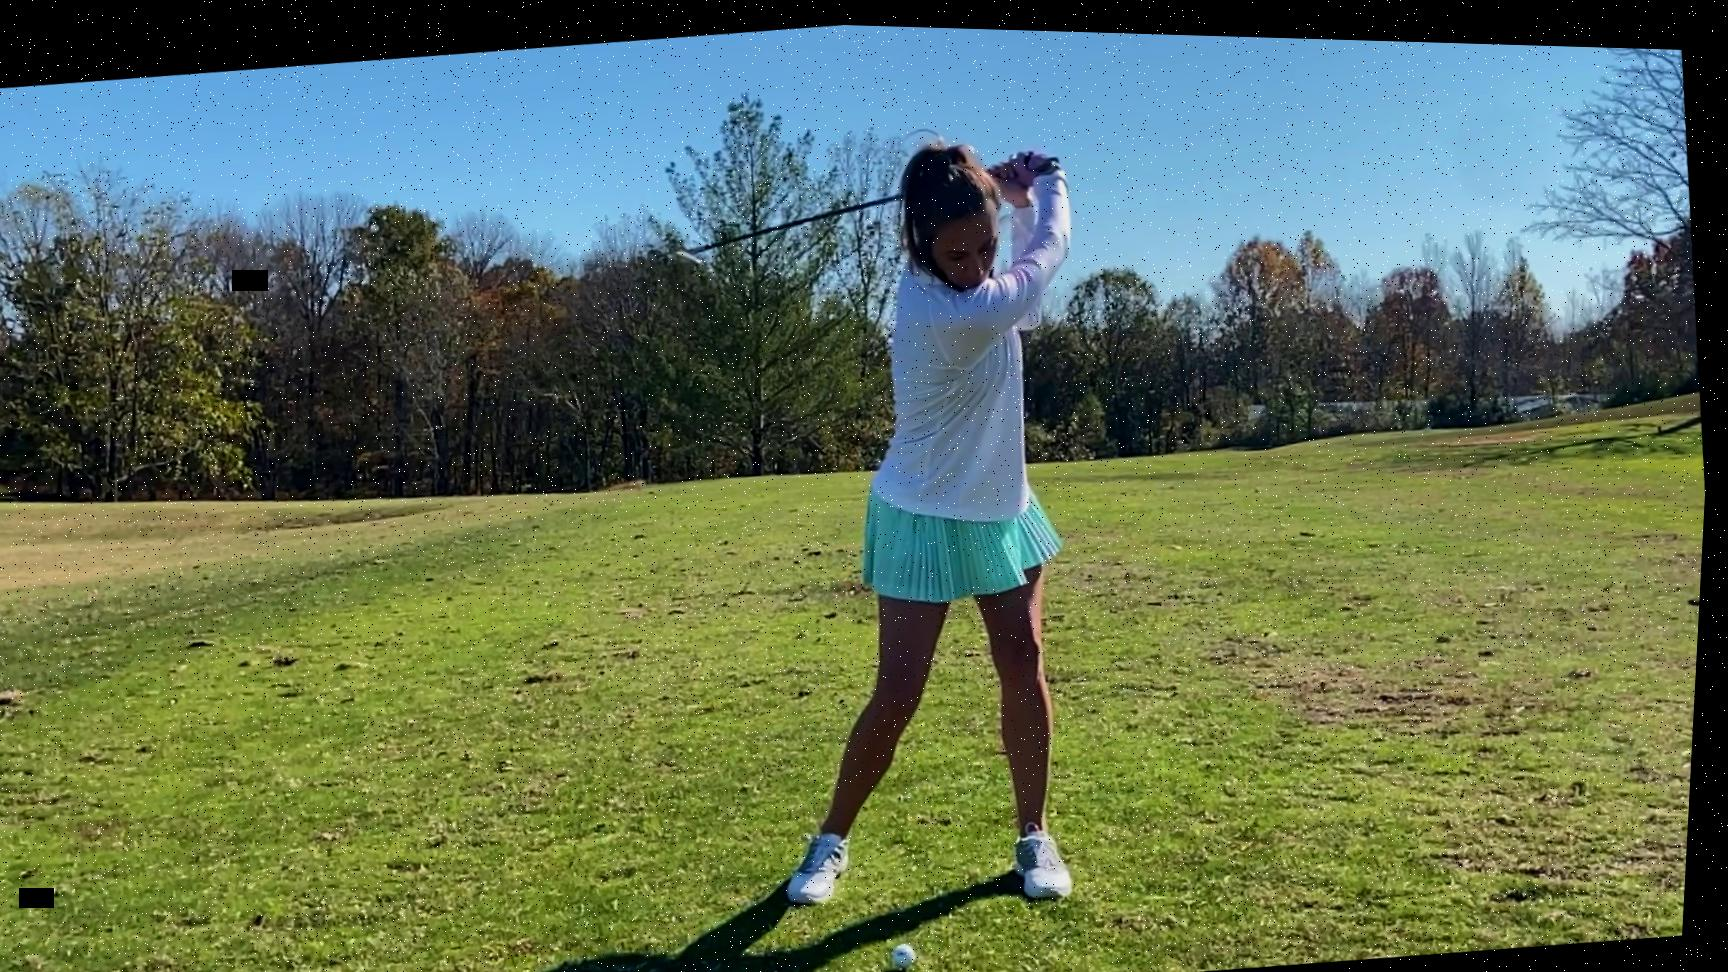ClubHead: (666, 230, 737, 281)
GolfBall: (897, 933, 932, 966)
